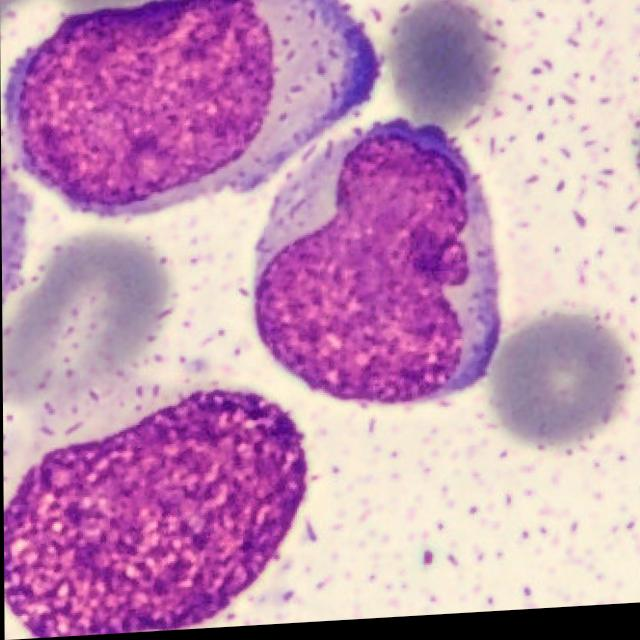Mieloblasto: (14, 0, 378, 213), (250, 121, 503, 408)
Restos celulares: (3, 389, 308, 639)
